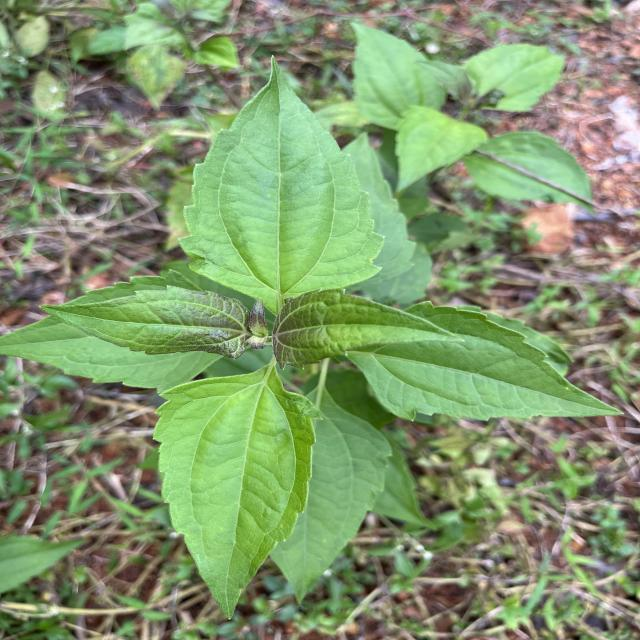Chromolaena odorata: (175, 48, 392, 316), (146, 362, 328, 622), (36, 278, 250, 364)
